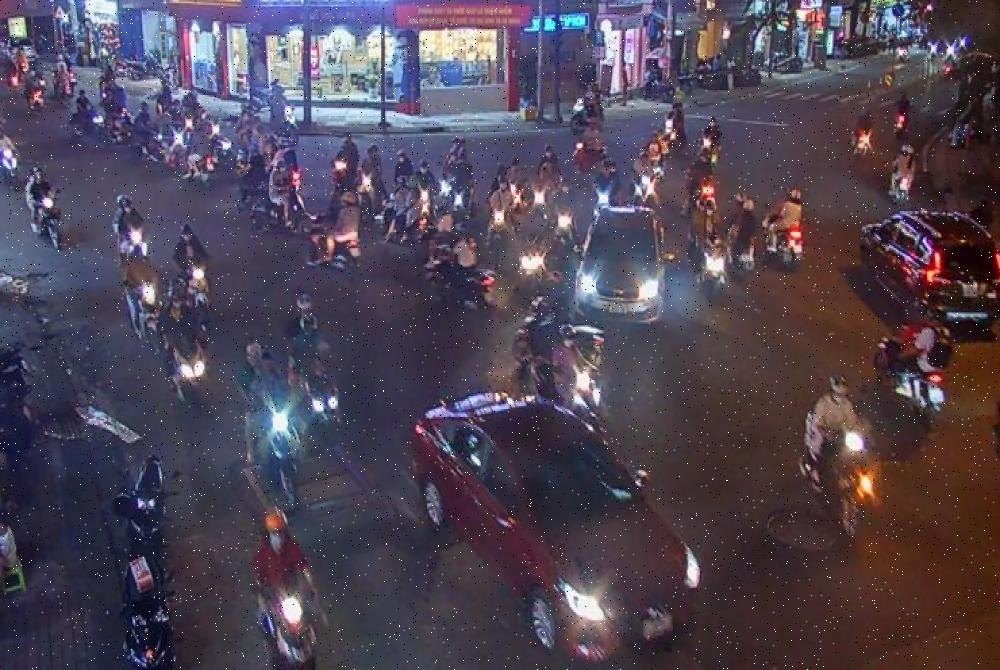car: (409, 380, 706, 648), (843, 196, 996, 368), (573, 186, 685, 378)
motorbike: (104, 447, 208, 670)
